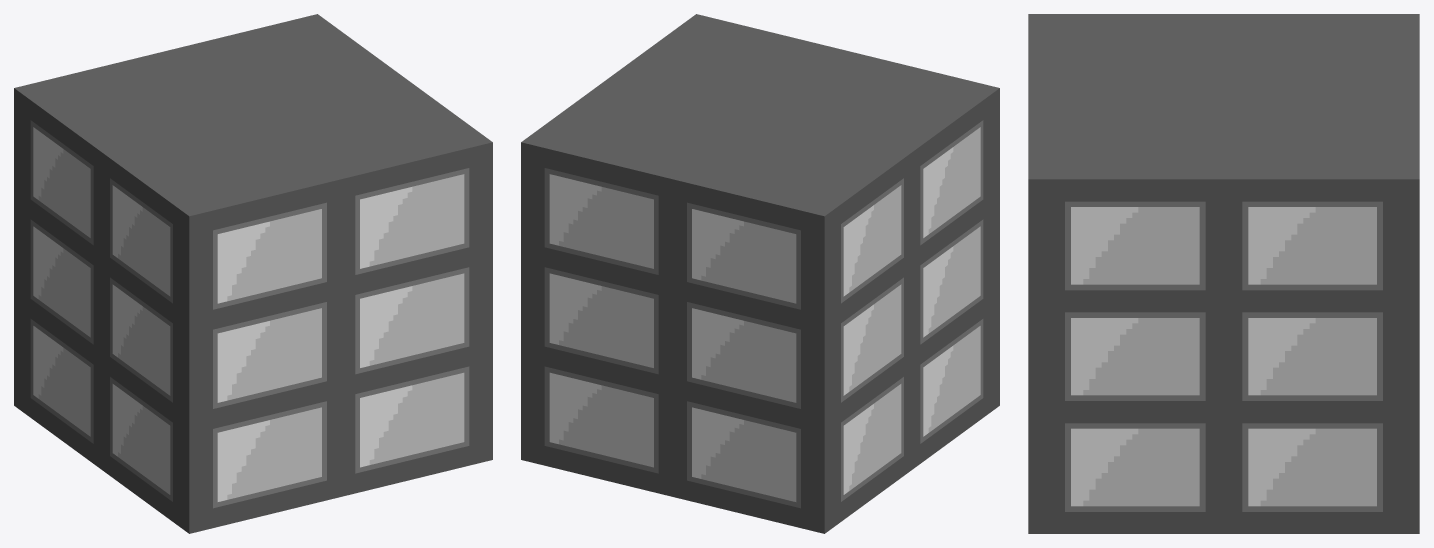
The model's file is Building_A.obj.
3 views of the same model, side by side, from view 1: azimuth 30°, elevation 25°; view 2: azimuth 150°, elevation 25°; view 3: azimuth 270°, elevation 25° (orthographic). The views are drawn at different scales.
Size of the model in its own units: 6.4 by 6.4 by 6.4.
1 material, 1 textured.
